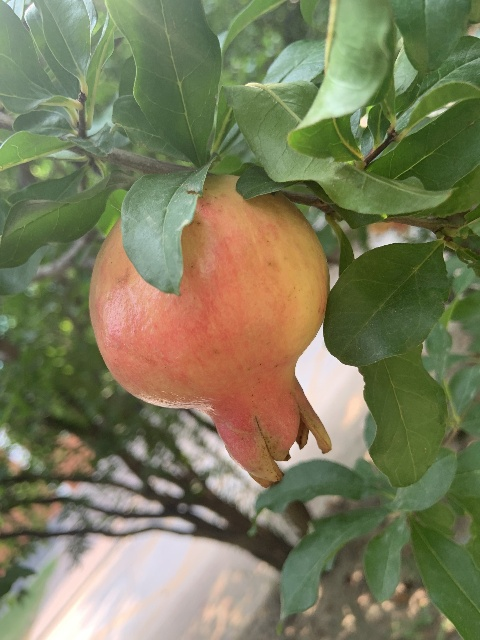ripe: (90, 174, 332, 488)
